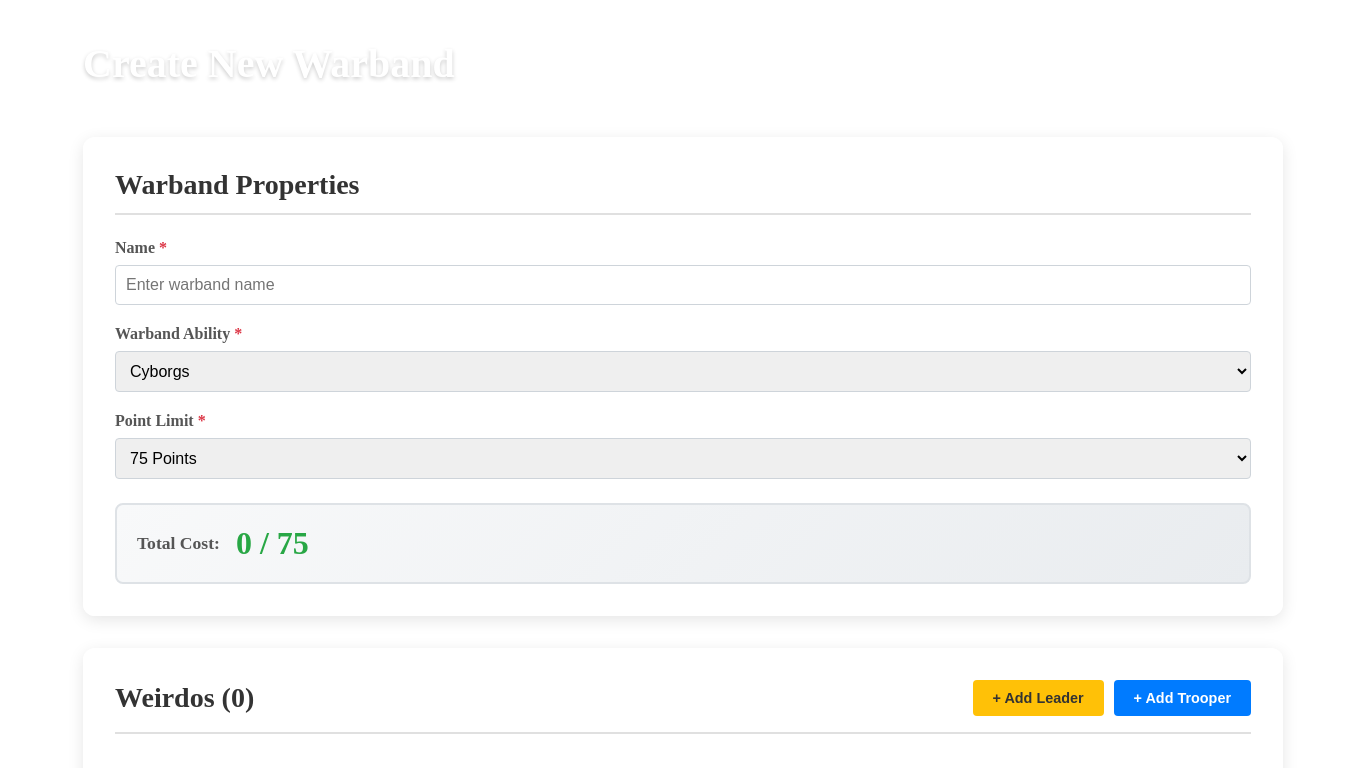
Test case: WarbandEditor Component › Changing point limit › should update point limit when selection changes
Check: the heading "Create New Warband" is shown, box top-left (83, 40), bottom-right (455, 87)
Select "125 Points" in the dropdown labelled "Point Limit *": x=683, y=458 top-left (115, 438), bottom-right (1251, 479)
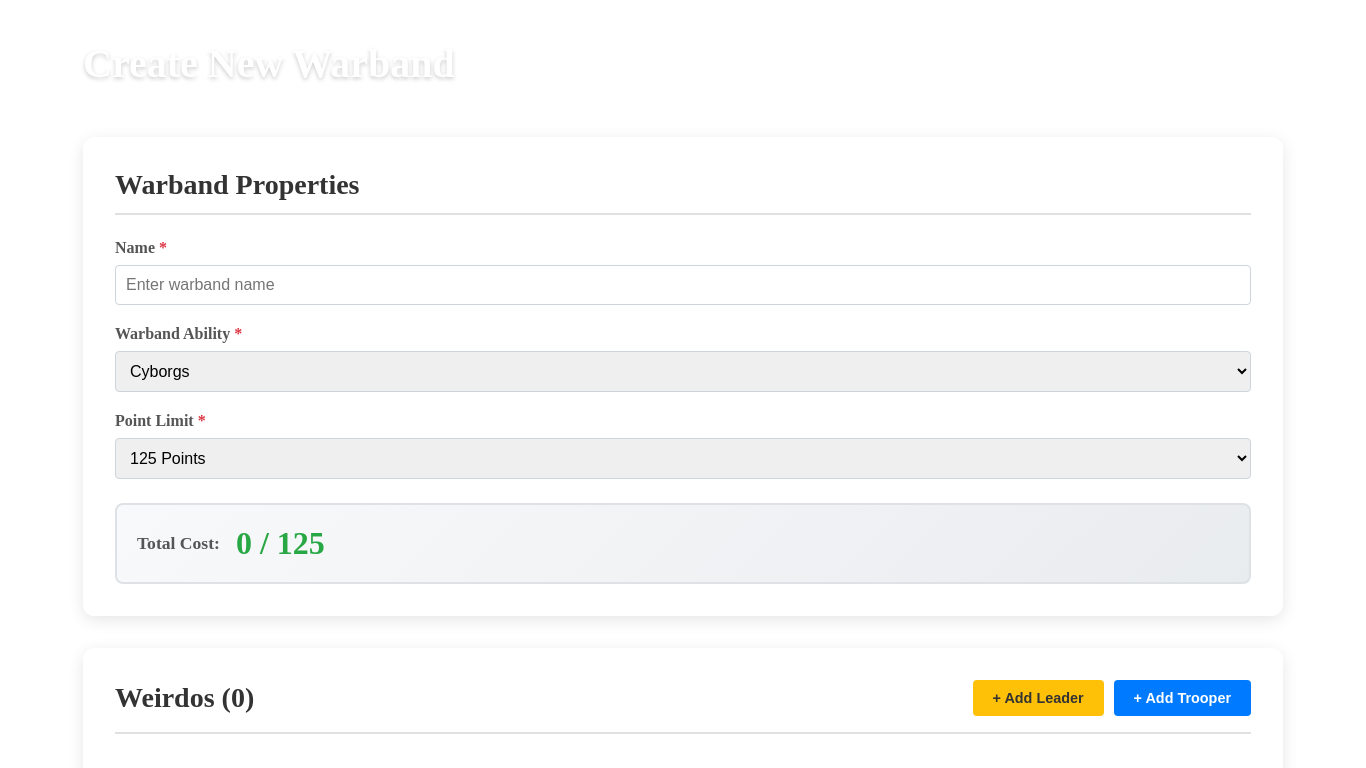
Check: the text "0 / 125" is shown, box top-left (236, 525), bottom-right (325, 562)
